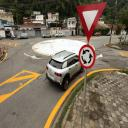Rotatoria: (78, 44, 96, 70)
preferencia: (76, 1, 108, 42)
